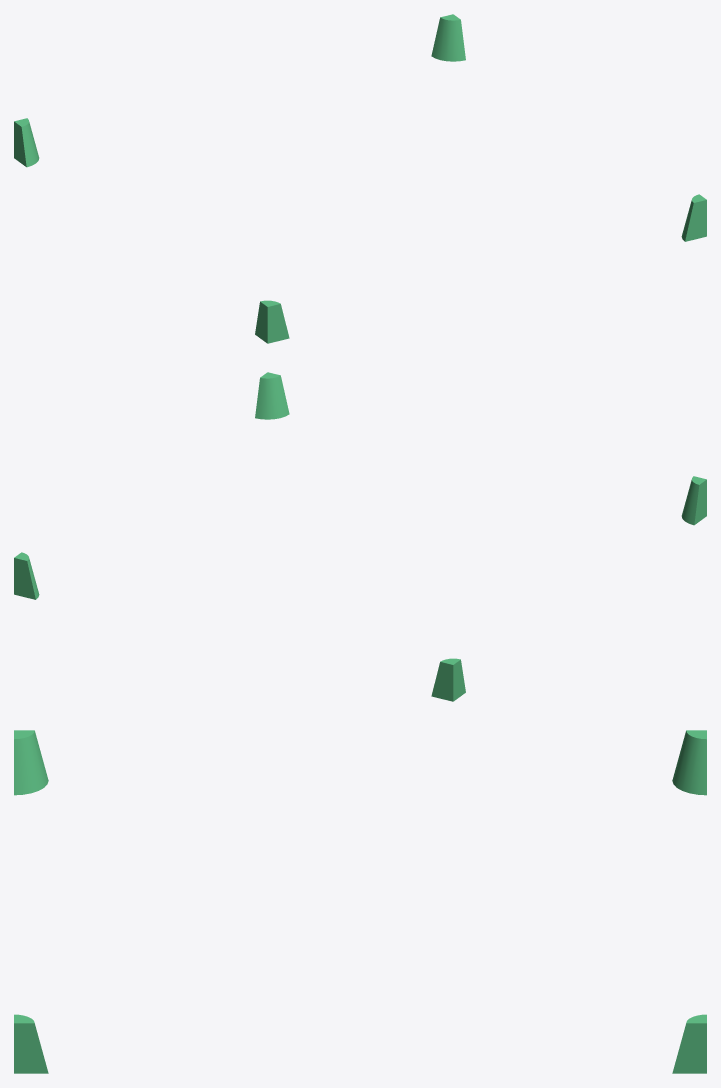
The model's file is road_crossroad_barrier.glb.
3 renders of one model, top to bottom at view 1: azimuth 30°, elevation 25°; view 2: azimuth 150°, elevation 25°; view 3: azimuth 270°, elevation 25°, orthographic. The views are drawn at different scales.
Visible parts, largest first — view 1: road-crossroad-barrier; view 2: road-crossroad-barrier; view 3: road-crossroad-barrier.
Boxes of the visible parts, left/top/right/bottom form: road-crossroad-barrier: left=14, top=14, right=706, bottom=343; road-crossroad-barrier: left=14, top=372, right=706, bottom=701; road-crossroad-barrier: left=14, top=730, right=706, bottom=1073.
Size of the model in its own units: 1 by 0.08 by 1.
1 material, 1 textured.
